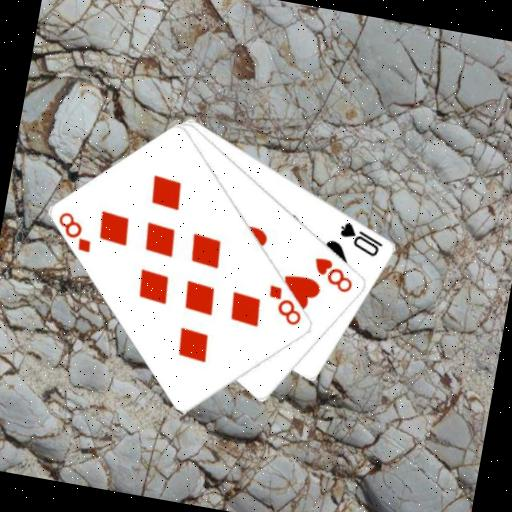10S: (333, 218, 388, 260)
8D: (260, 280, 308, 328), (51, 207, 98, 254)
8H: (307, 253, 358, 296)
